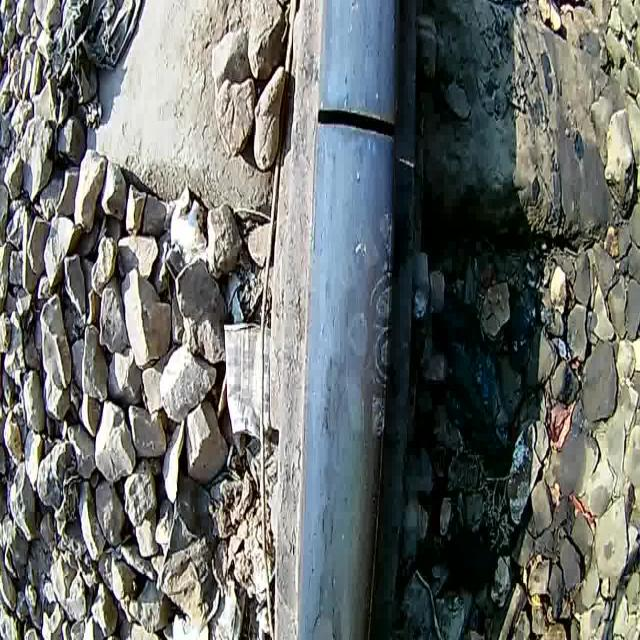Squats: (265, 0, 428, 640)
